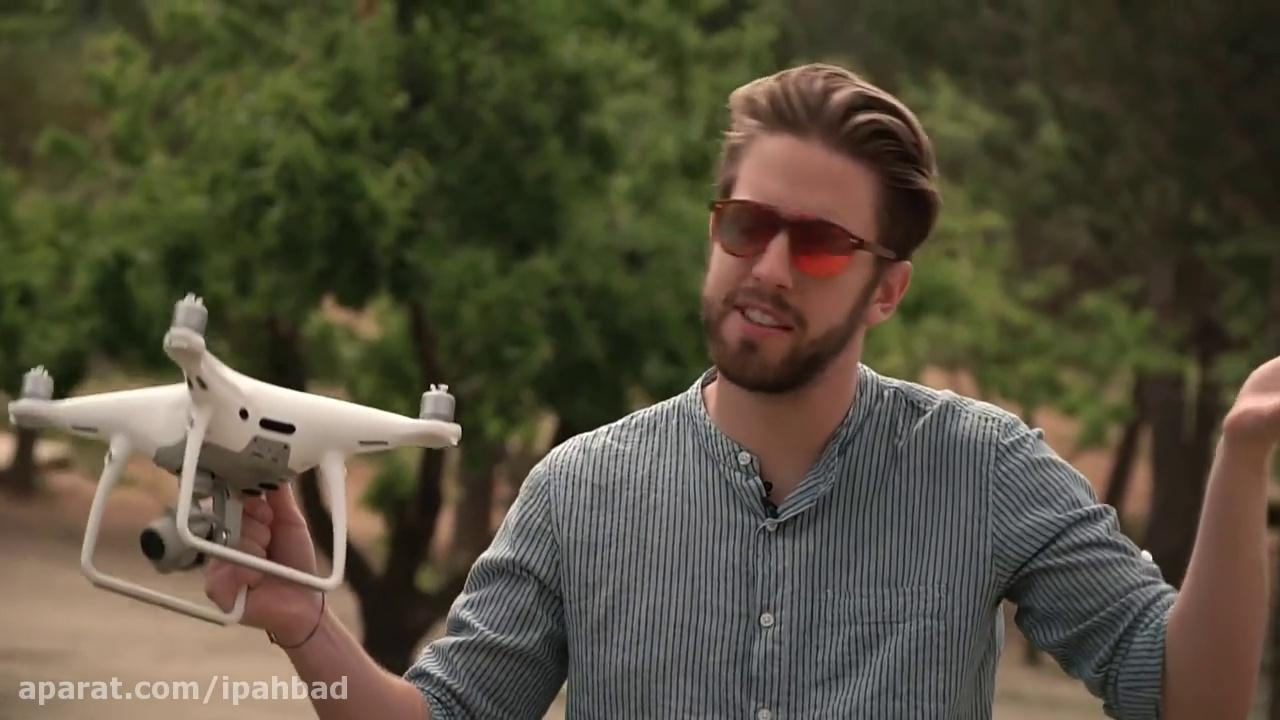drone: (2, 288, 460, 629)
